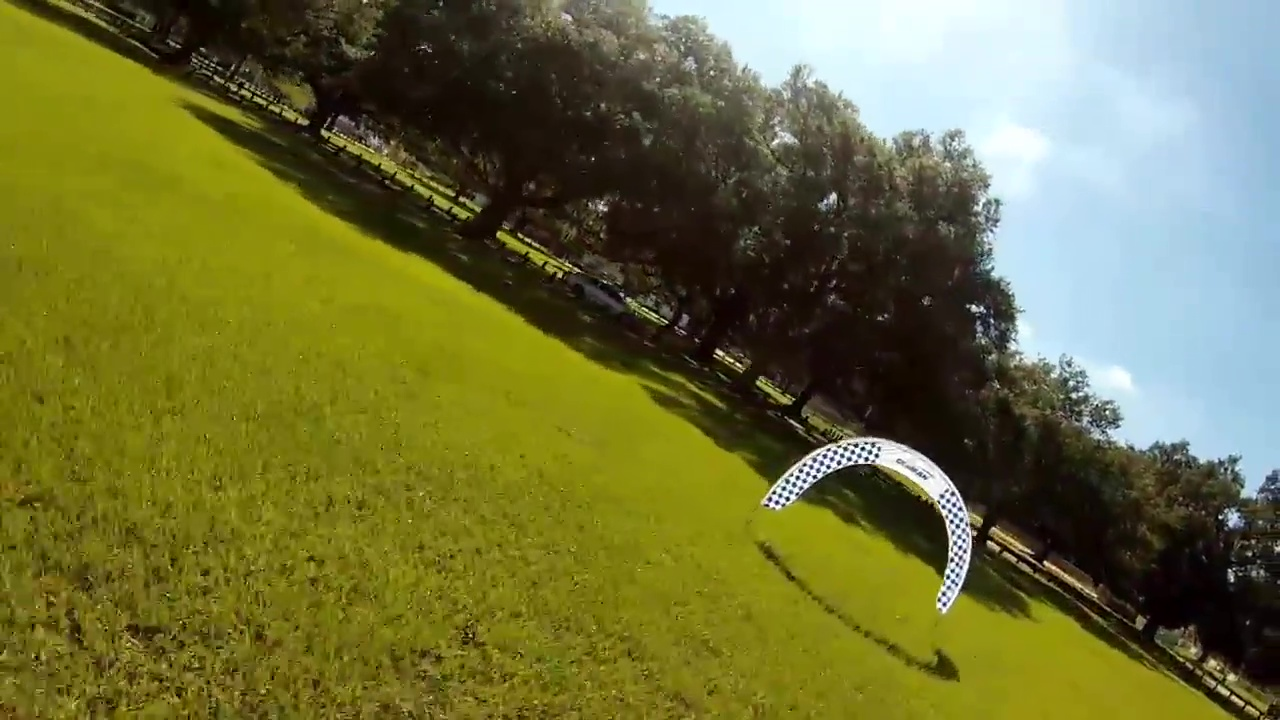gate: (760, 434, 971, 621)
